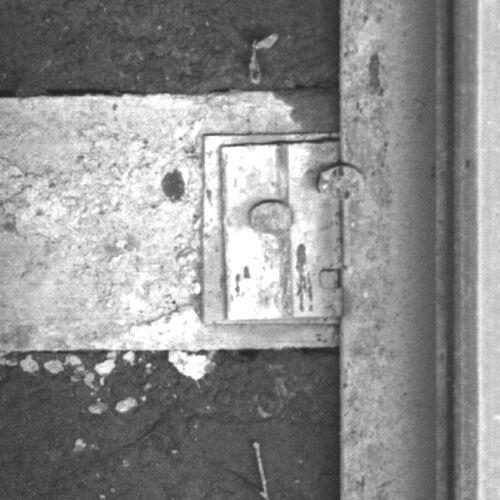do: (220, 141, 365, 321)
rail: (464, 1, 500, 500)
tie_wood: (1, 97, 338, 349)
